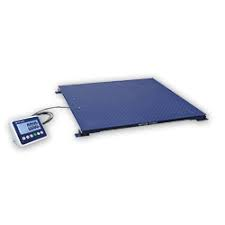Industrial Scale: (9, 76, 210, 150)
